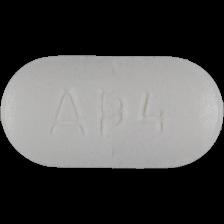50090-0704: (0, 0, 224, 224)
